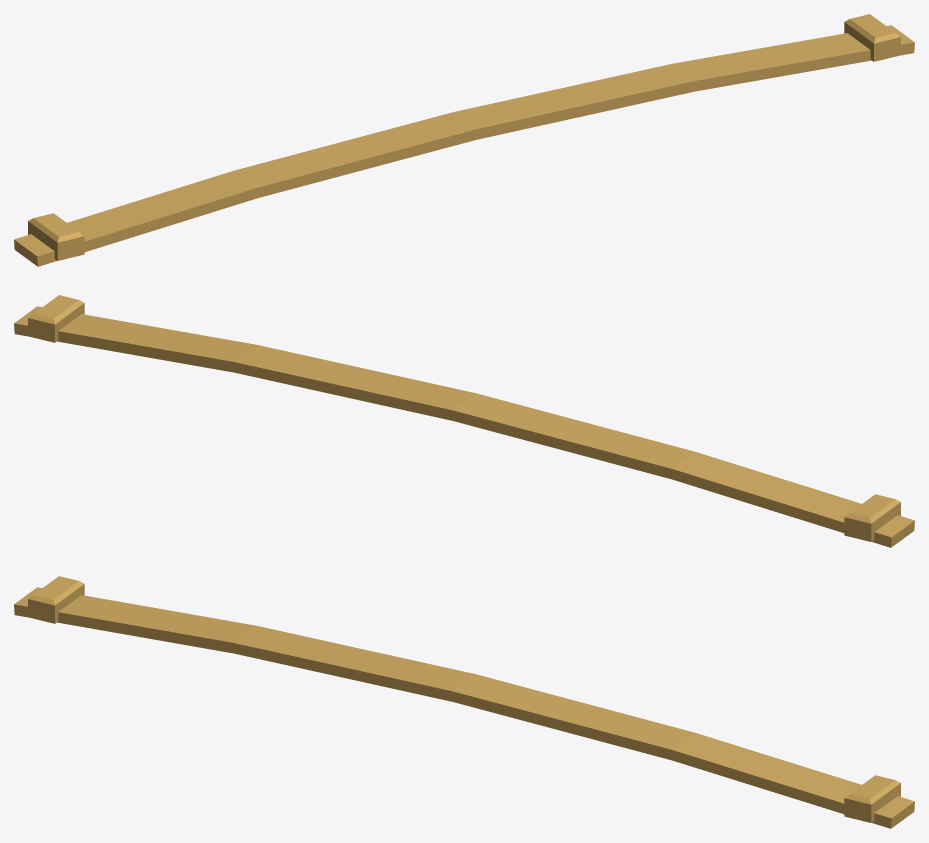
The model's file is SM_Vendor_CarryPole_02.fbx.
3 renders of one model, top to bottom at view 1: azimuth 30°, elevation 25°; view 2: azimuth 150°, elevation 25°; view 3: azimuth 330°, elevation 25°, orthographic.
Visible parts, largest first — view 1: SM_Vendor_CarryPole_02; view 2: SM_Vendor_CarryPole_02; view 3: SM_Vendor_CarryPole_02.
Boxes of the visible parts, bbox=[...] form: SM_Vendor_CarryPole_02: bbox=[14, 14, 914, 266]; SM_Vendor_CarryPole_02: bbox=[14, 295, 914, 547]; SM_Vendor_CarryPole_02: bbox=[14, 576, 914, 828].
Bounding box in the file's own units: 1.3 × 0.0434 × 0.076.
Materials: 1 (1 with a texture image).
